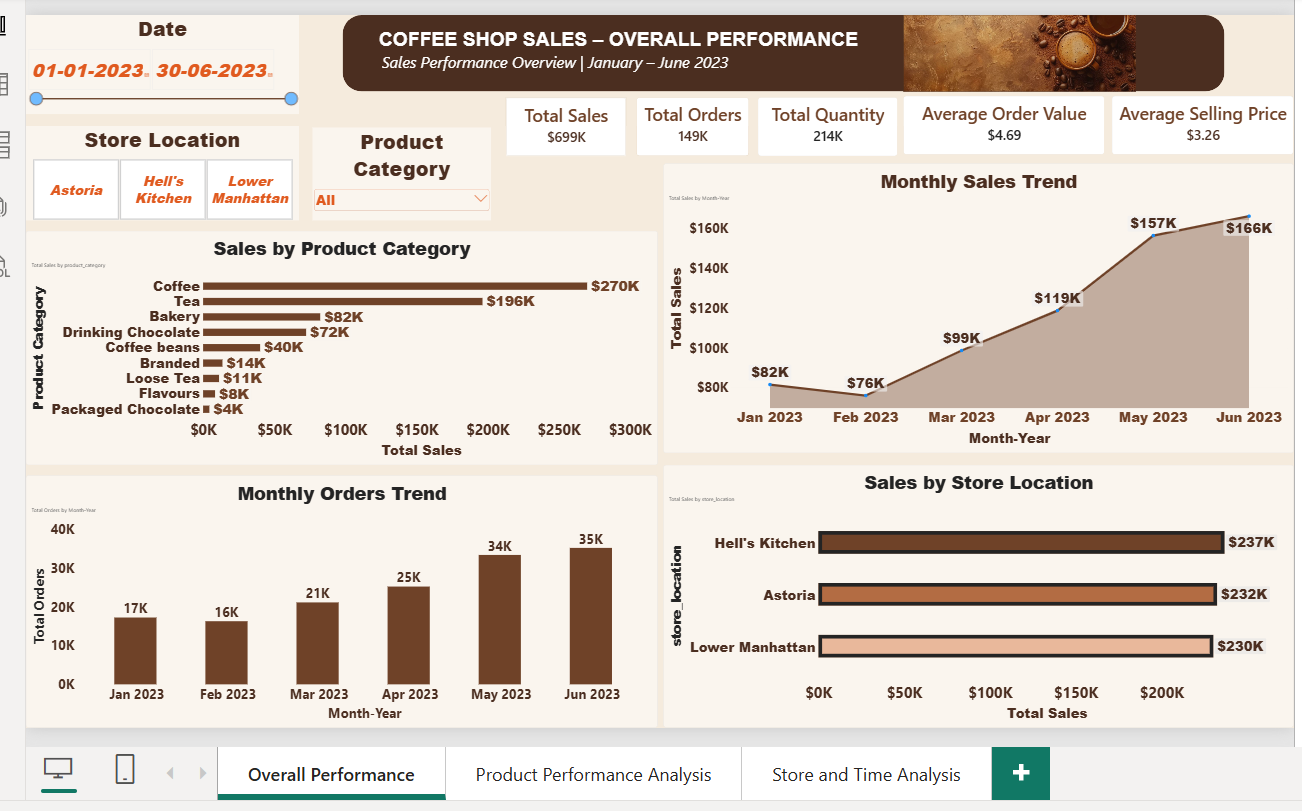

The dashboard page shown, as its layout file describes it:
{"tool":"powerbi","page":{"name":"Overall Performance","canvas":[3840,2160],"ordinal":0},"visuals":[{"type":"shape","box":[958.5,0,2671.1,231.7],"z":0},{"type":"textbox","box":[150,419,300,300],"z":1000},{"type":"textbox","box":[1003.9,31.8,1926.1,172.6],"z":2000},{"type":"image","box":[2657.4,0,704.1,231.7],"z":3000},{"type":"cardVisual","fields":{"Data":["Coffee_Sales.Total Sales"]},"box":[1453.6,249.8,363.4,177.2],"z":4000},{"type":"cardVisual","fields":{"Data":["Coffee_Sales.Total Orders"]},"box":[1848.8,249.8,340.7,177.2],"z":5000},{"type":"cardVisual","fields":{"Data":["Coffee_Sales.Total Quantity"]},"box":[2216.8,249.8,422.5,177.2],"z":6000},{"type":"cardVisual","fields":{"Data":["Coffee_Sales.Average Order Value"]},"box":[2657.4,245.3,608.7,177.2],"z":7000},{"type":"cardVisual","fields":{"Data":["Coffee_Sales.Average Selling Price"]},"box":[3288.9,245.3,549.7,177.2],"z":8000},{"type":"lineChart","title":"Monthly Sales Trend","fields":{"Category":["Date Table.Month-Year"],"Y":["Coffee_Sales.Total Sales"]},"box":[1930.6,449.7,1907.9,876.7],"z":9000},{"type":"clusteredBarChart","title":"Sales by Product Category","fields":{"Category":["Coffee_Sales.product_category"],"Y":["Coffee_Sales.Total Sales"]},"box":[0,654.1,1912.4,708.6],"z":10000},{"type":"clusteredBarChart","title":"Sales by Store Location","fields":{"Category":["Coffee_Sales.store_location"],"Y":["Coffee_Sales.Total Sales"]},"box":[1930.6,1362.8,1907.9,795],"z":11000},{"type":"slicer","title":"Date ","fields":{"Values":["Coffee_Sales.transaction_date"]},"box":[0,0,826.8,299.8],"z":12000},{"type":"slicer","title":"Store Location","fields":{"Values":["Coffee_Sales.store_location"]},"box":[0,336.2,826.8,286.2],"z":13000},{"type":"slicer","title":"Product Category","fields":{"Values":["Coffee_Sales.product_category"]},"box":[867.6,340.7,540.6,281.6],"z":14000},{"type":"clusteredColumnChart","title":"Monthly Orders Trend","fields":{"Category":["Date Table.Month-Year"],"Y":["Coffee_Sales.Total Orders"]},"box":[0,1394.6,1912.4,763.2],"z":14001}]}

Visuals, with their boxes on the page's 3840x2160 design canvas (x1, y1, x2, y2). These are canvas units, not pixel positions in the 1302x811 screenshot, which may show the page scaled, cropped or inside an application window:
shape: region(958, 0, 3630, 232)
textbox: region(150, 419, 450, 719)
textbox: region(1004, 32, 2930, 204)
image: region(2657, 0, 3362, 232)
cardVisual - Coffee_Sales.Total Sales: region(1454, 250, 1817, 427)
cardVisual - Coffee_Sales.Total Orders: region(1849, 250, 2190, 427)
cardVisual - Coffee_Sales.Total Quantity: region(2217, 250, 2639, 427)
cardVisual - Coffee_Sales.Average Order Value: region(2657, 245, 3266, 422)
cardVisual - Coffee_Sales.Average Selling Price: region(3289, 245, 3839, 422)
"Monthly Sales Trend" lineChart: region(1931, 450, 3838, 1326)
"Sales by Product Category" clusteredBarChart: region(0, 654, 1912, 1363)
"Sales by Store Location" clusteredBarChart: region(1931, 1363, 3838, 2158)
"Date " slicer: region(0, 0, 827, 300)
"Store Location" slicer: region(0, 336, 827, 622)
"Product Category" slicer: region(868, 341, 1408, 622)
"Monthly Orders Trend" clusteredColumnChart: region(0, 1395, 1912, 2158)
